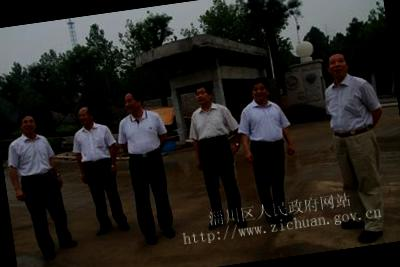no_helmet: (320, 46, 354, 80), (121, 84, 148, 116), (15, 108, 41, 138), (247, 76, 272, 103), (75, 100, 98, 129), (191, 81, 214, 109)
